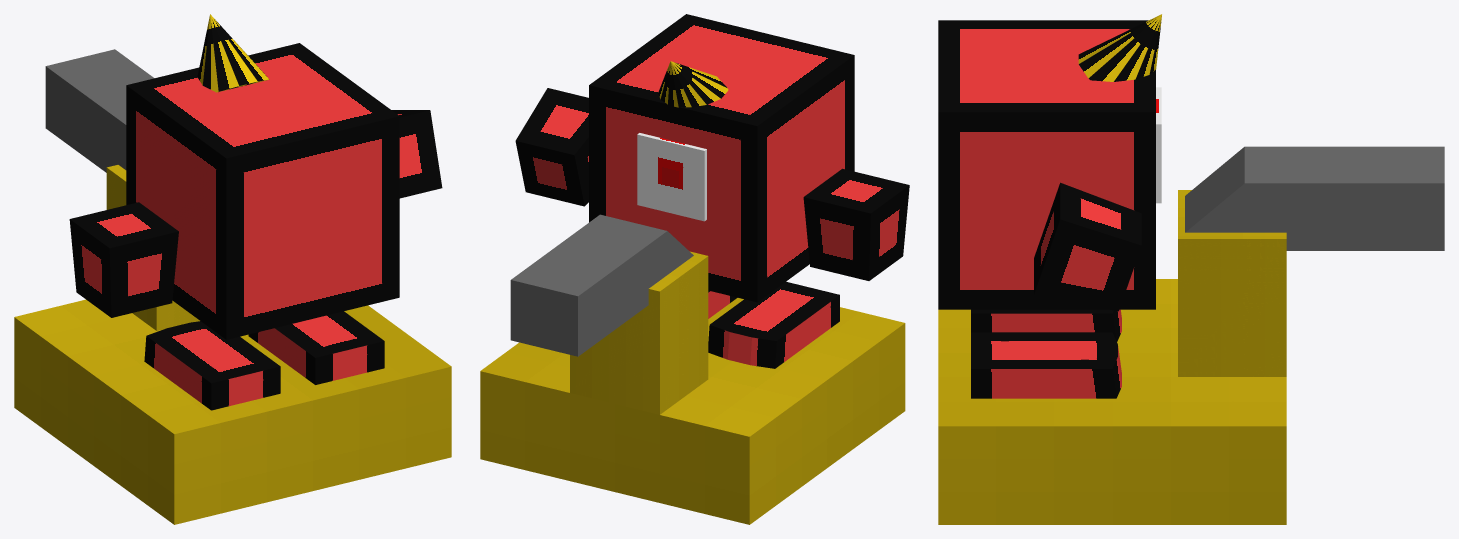
File: akudo-fu.fbx
3 views of the same model, side by side, from view 1: azimuth 30°, elevation 25°; view 2: azimuth 150°, elevation 25°; view 3: azimuth 270°, elevation 25° (orthographic). The views are drawn at different scales.
Visible parts, largest first — view 1: cuboid, cuboid_6, cuboid_4, cuboid_7, cuboid_2, cuboid_1, cuboid_3, cone; view 2: cuboid_6, cuboid, cuboid_7, cuboid_4, cuboid_2, cuboid_3, cuboid_5, cone; view 3: cuboid_6, cuboid, cuboid_7, cuboid_3, cuboid_1, cuboid_2, cone, cuboid_5.
Part boxes in pixels (<box>): cuboid: <box>126,43,399,339</box>; cuboid_6: <box>14,165,451,524</box>; cuboid_4: <box>69,202,178,317</box>; cuboid_7: <box>45,49,154,172</box>; cuboid_2: <box>144,321,280,410</box>; cuboid_1: <box>248,311,384,384</box>; cuboid_3: <box>391,110,442,198</box>; cone: <box>197,14,269,92</box>; cuboid_6: <box>480,251,905,524</box>; cuboid: <box>589,14,854,302</box>; cuboid_7: <box>510,214,693,356</box>; cuboid_4: <box>803,168,909,280</box>; cuboid_2: <box>708,281,839,368</box>; cuboid_3: <box>515,88,588,206</box>; cuboid_5: <box>637,133,706,221</box>; cone: <box>658,61,728,107</box>; cuboid_6: <box>938,190,1286,524</box>; cuboid: <box>938,20,1155,309</box>; cuboid_7: <box>1185,146,1444,250</box>; cuboid_3: <box>1034,182,1141,311</box>; cuboid_1: <box>971,332,1121,398</box>; cuboid_2: <box>971,309,1121,341</box>; cone: <box>1078,14,1161,81</box>; cuboid_5: <box>1156,87,1161,203</box>.
Size of the model in its own units: 125 by 138 by 145.
